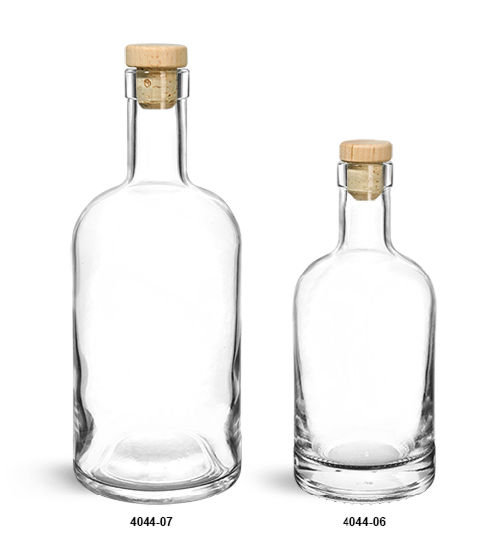glass_bottle: (68, 36, 253, 508), (290, 133, 444, 505)
